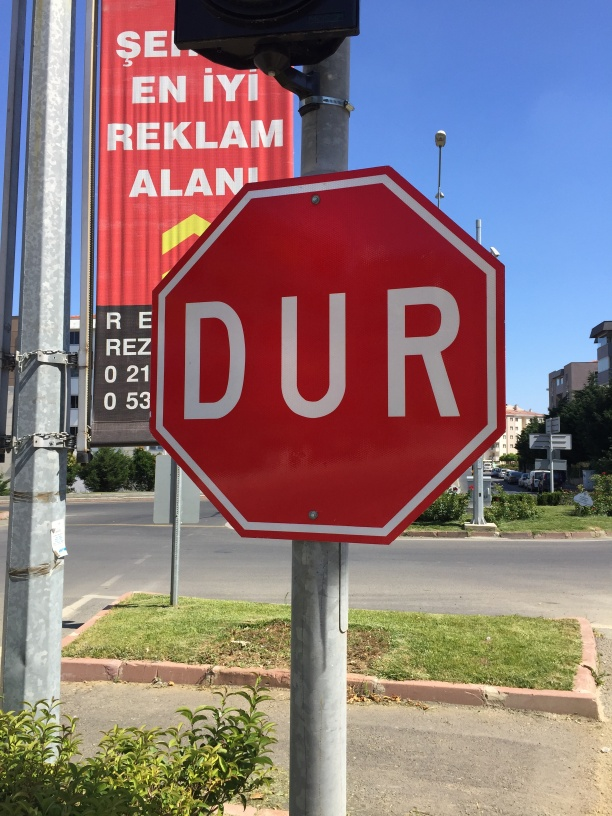arac_dur_isareti: (132, 102, 543, 702)
